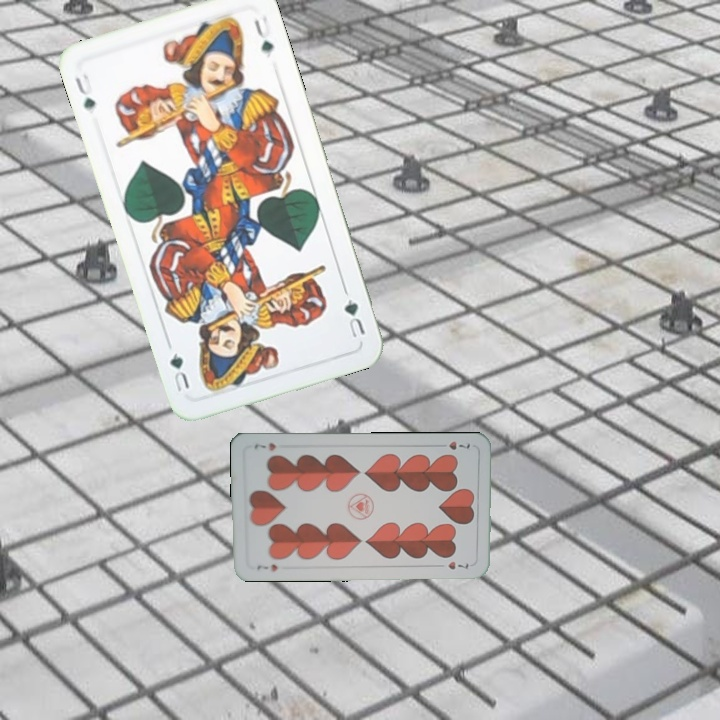GU: (340, 294, 368, 340), (71, 68, 98, 112)
H7: (434, 437, 472, 452), (253, 560, 280, 574)
